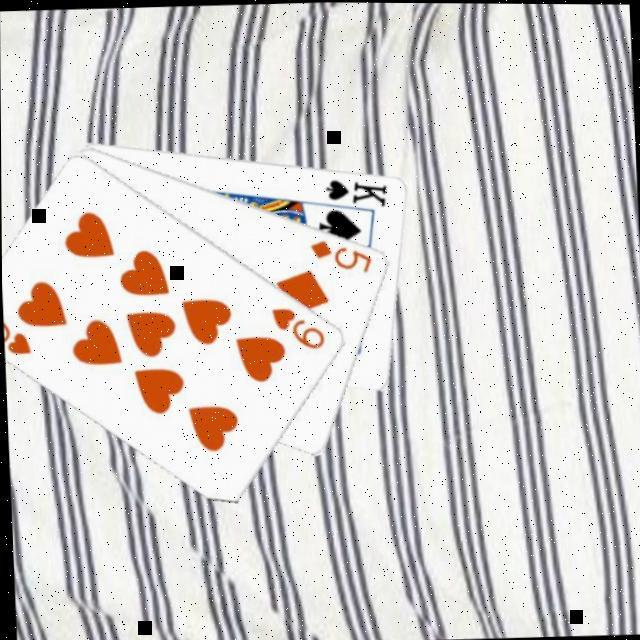5D: (307, 233, 376, 276)
9H: (268, 300, 329, 352), (2, 307, 36, 356)
KS: (322, 172, 392, 208)
